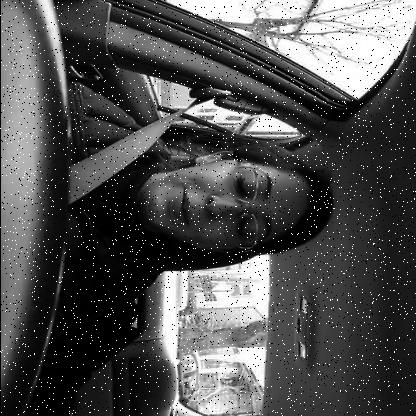seatbelt: (0, 82, 340, 270)
